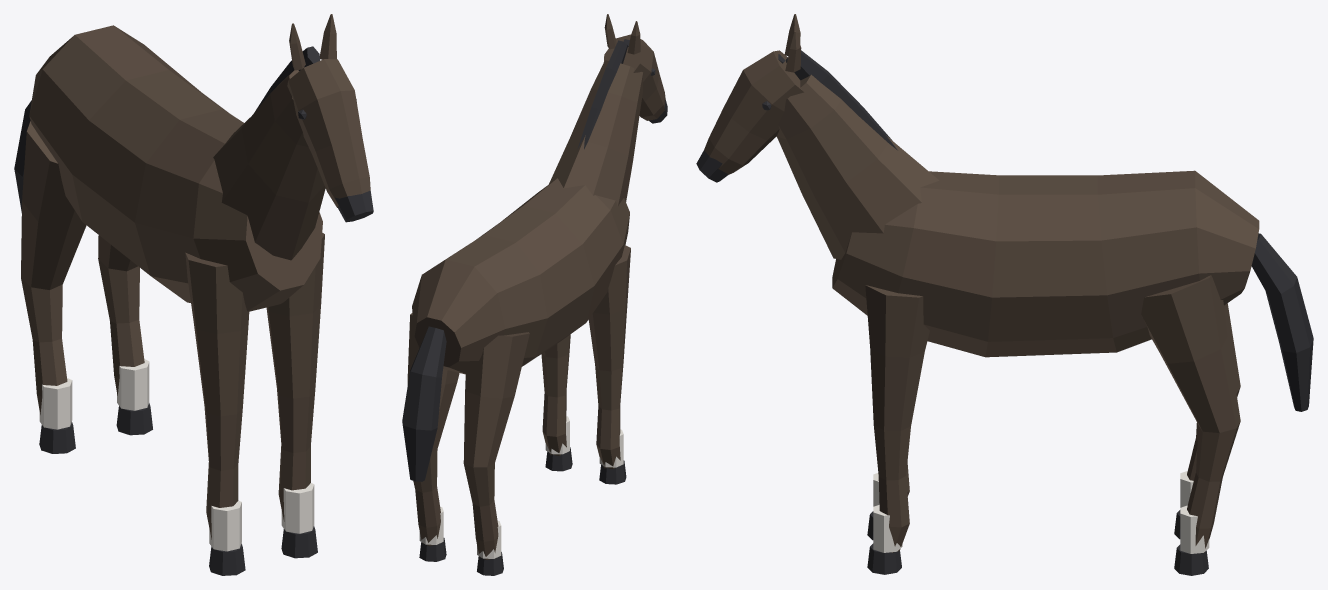
The model's file is SM_Horse_Black.glb.
3 views of the same model, side by side, from view 1: azimuth 30°, elevation 25°; view 2: azimuth 150°, elevation 25°; view 3: azimuth 270°, elevation 25° (orthographic). The views are drawn at different scales.
Parts seen in each view (by area): view 1: SM_Horse_Black; view 2: SM_Horse_Black; view 3: SM_Horse_Black.
Part boxes in pixels (x1,y1,x2,y2): SM_Horse_Black: (14,14,373,575); SM_Horse_Black: (402,14,667,575); SM_Horse_Black: (696,14,1313,575).
Bounding box in the file's own units: 0.59 × 2.28 × 2.41.
